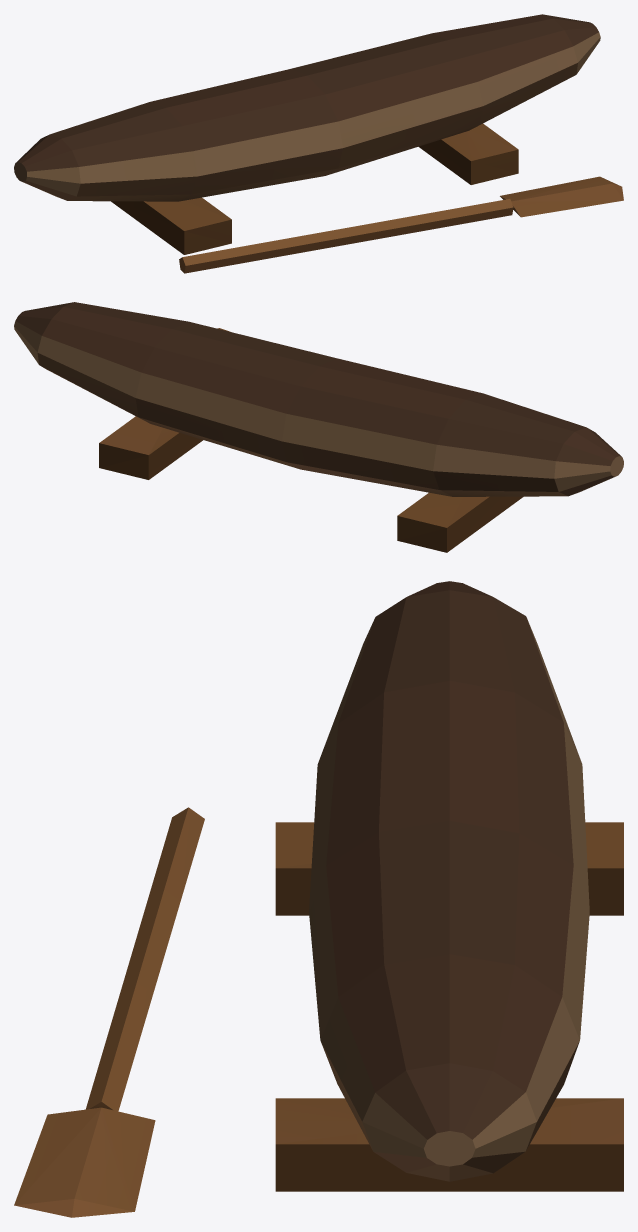
The picture shows the model from 3 angles, top to bottom: view 1: azimuth 30°, elevation 25°; view 2: azimuth 150°, elevation 25°; view 3: azimuth 270°, elevation 25°; orthographic projection. The views are drawn at different scales.
Parts seen in each view (by area): view 1: base; view 2: base; view 3: base.
Part boxes in pixels (x1,y1,x2,y2): base: (14, 14, 623, 273); base: (14, 302, 623, 552); base: (14, 581, 623, 1217).
Size of the model in its own units: 0.6021 by 0.1086 by 0.2802.
